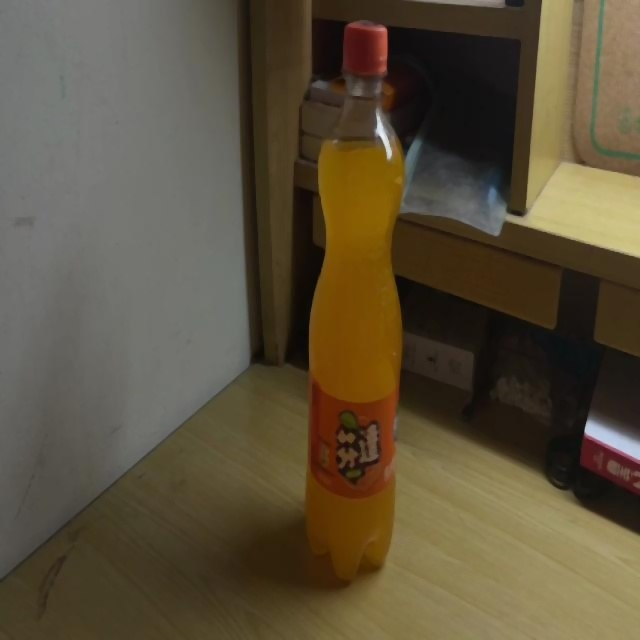Fanta: (306, 20, 404, 586)
